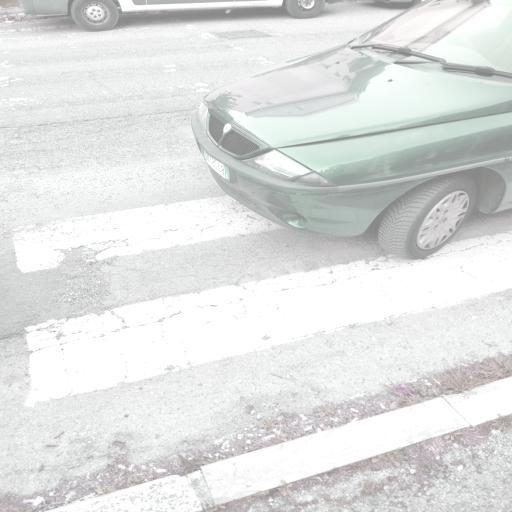crosswalk: (4, 202, 512, 412)
